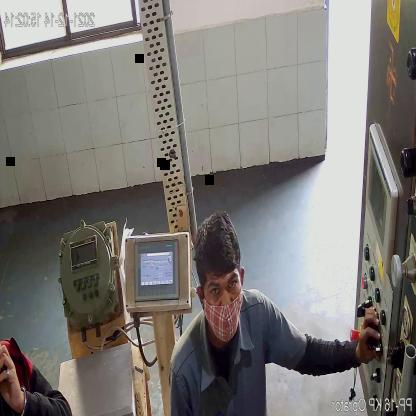no_goggles: (205, 273, 240, 307)
